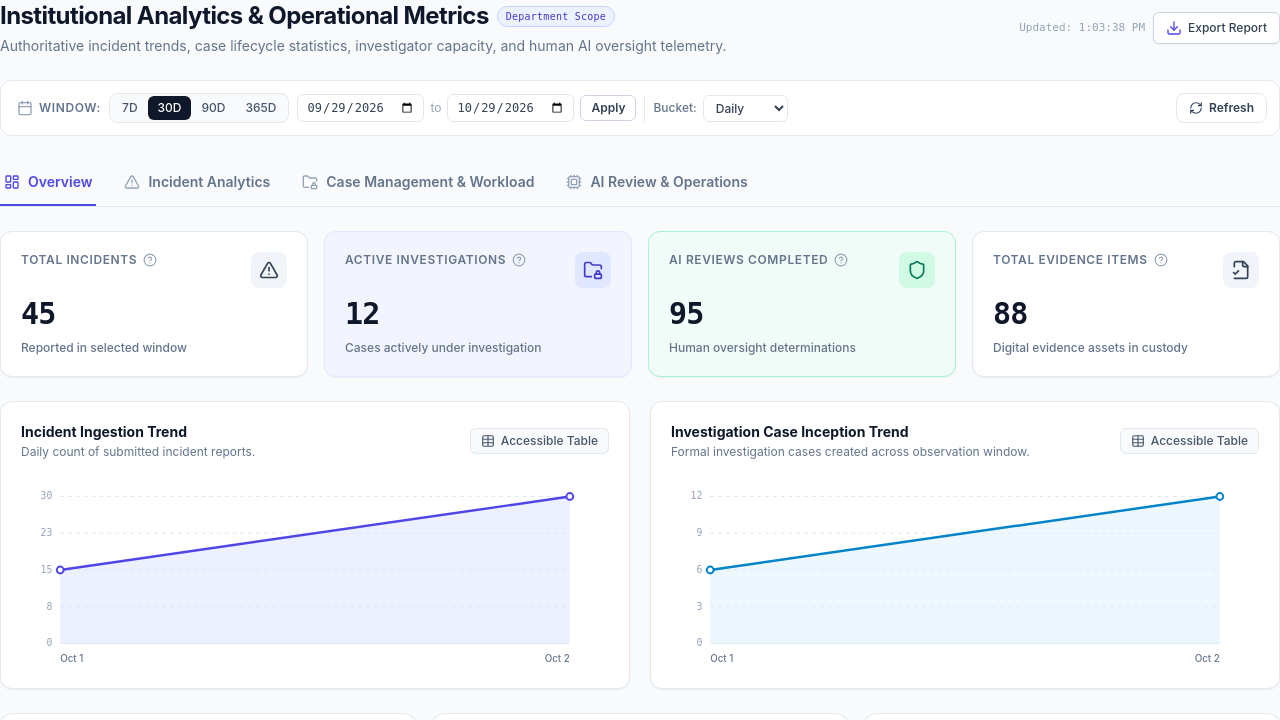
it: AnalyticsDashboardView Component › navigates to Case Management & Workload tab and renders workload table for supervisory roles
The image size is (1280, 720).
Check: the text "45" is shown, box [21,296,56,332]
# Click Case Management & Workload tab
Click the button "Case Management & Workload": coordinates (418, 183) [298,160,538,206]
(page scrolled)
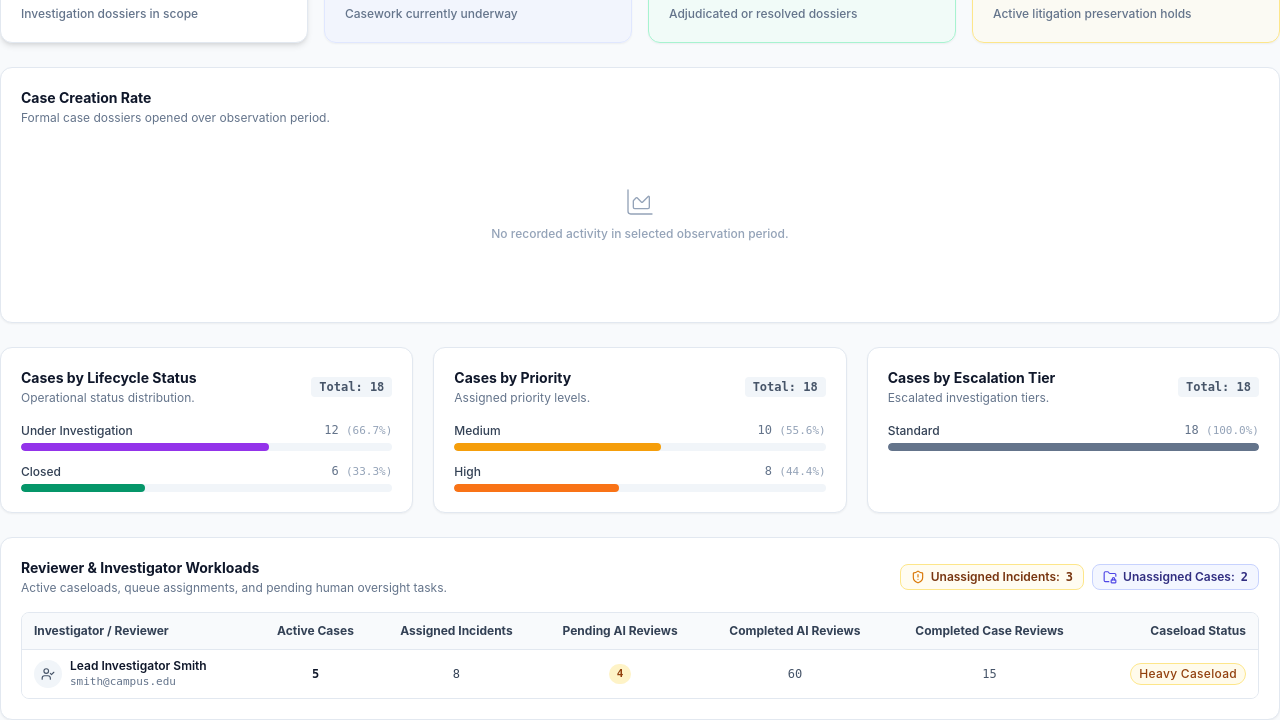
Check: the heading "Reviewer & Investigator Workloads" is shown, box [21,559,259,576]
Check: the text "Lead Investigator Smith" is shown, box [70,658,207,674]
Check: the text "Heavy Caseload" is shown, box [1130,663,1246,685]
